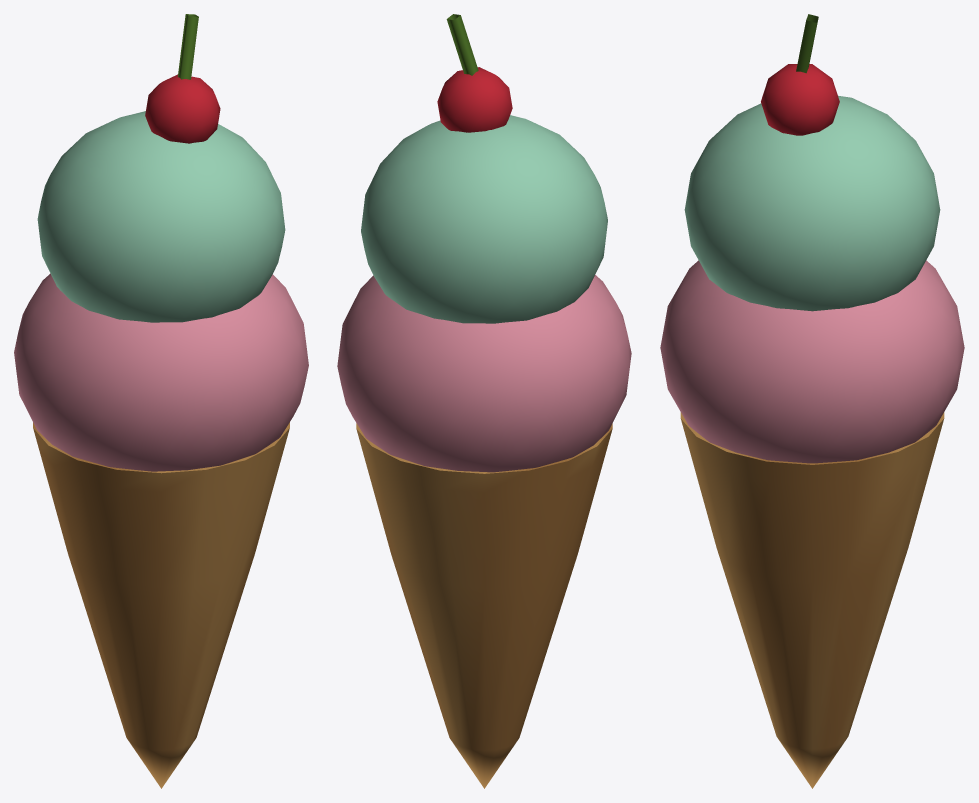
The model's file is style_snack.glb.
The picture shows the model from 3 angles, left to right: view 1: azimuth 30°, elevation 25°; view 2: azimuth 150°, elevation 25°; view 3: azimuth 270°, elevation 25°; orthographic projection. The views are drawn at different scales.
Parts seen in each view (by area): view 1: style_snack_main; view 2: style_snack_main; view 3: style_snack_main.
Boxes of the visible parts, x1,y1,x2,y2 form: style_snack_main: (14, 14, 308, 788); style_snack_main: (337, 14, 631, 788); style_snack_main: (660, 14, 964, 788).
Bounding box in the file's own units: 0.1 × 0.2857 × 0.1.
